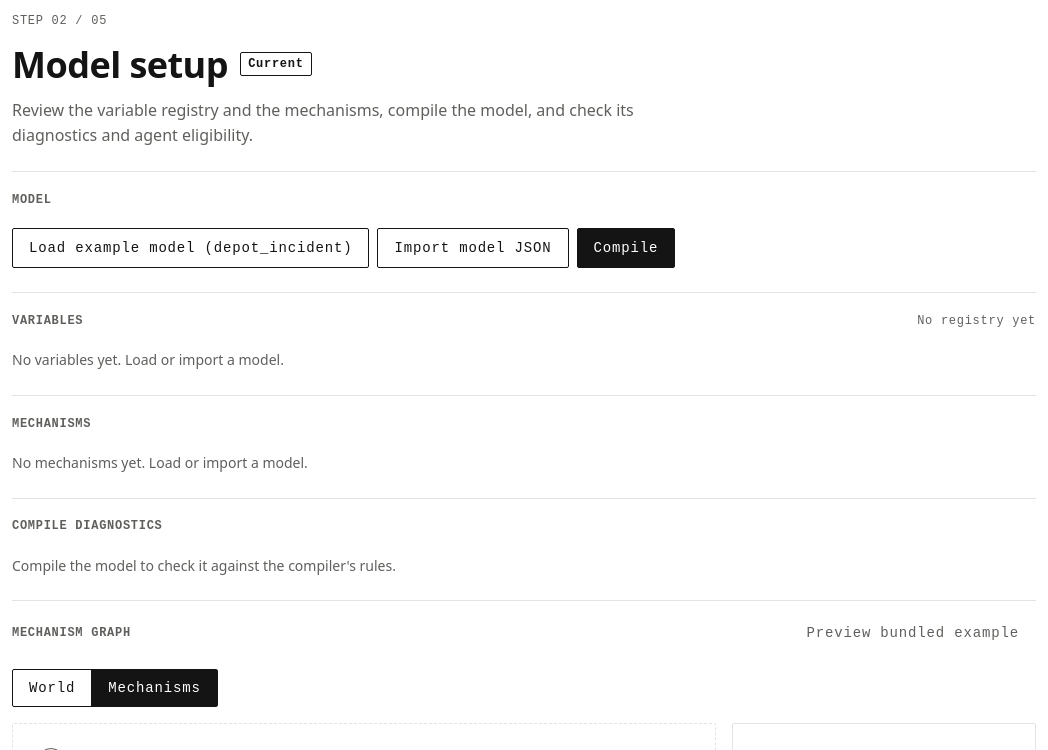
Scenario: Step2ModelSetup › explains a model import sent before the world exists (404 world_not_ready)
Click the button with test id "load-example-model" at {"x": 191, "y": 248}, box 12,228 -> 370,268
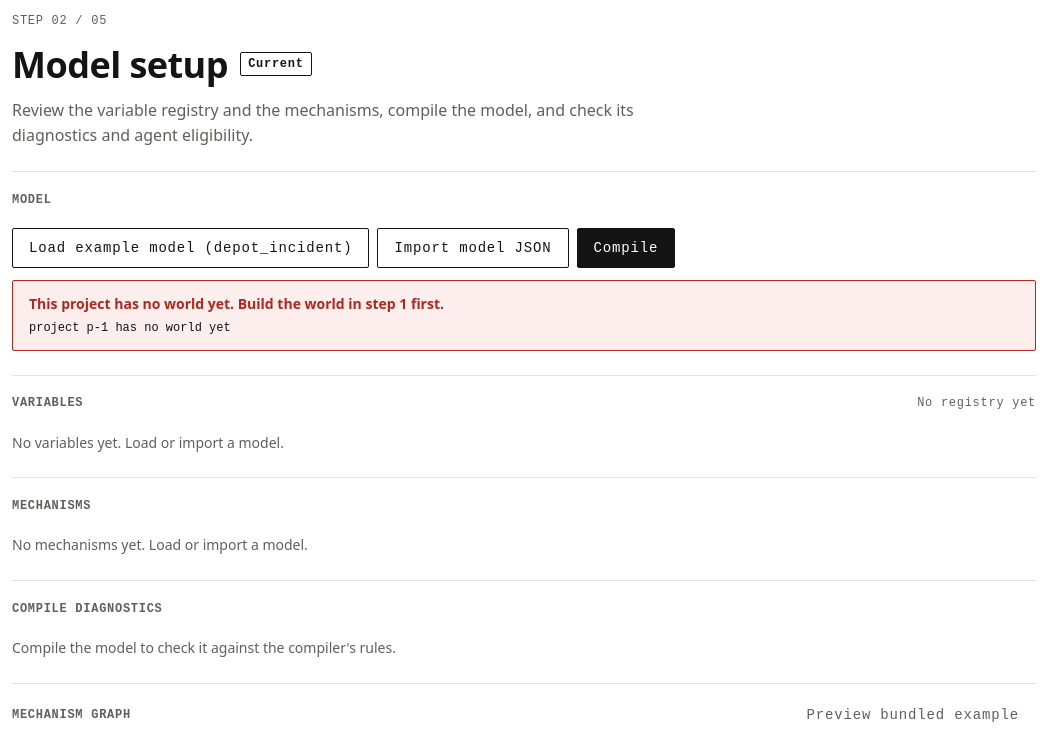
expect the message with test id "model-import-error" shows "Build the world in step 1 first": met, box 29,294 -> 444,313
